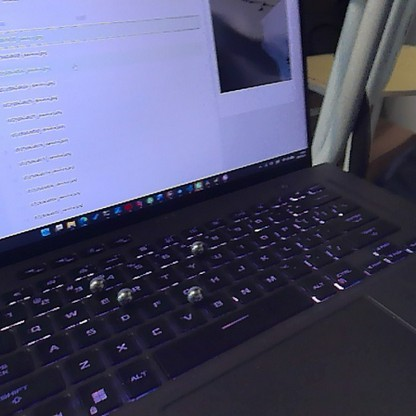ironball: (114, 284, 136, 306), (184, 284, 204, 307), (86, 274, 105, 293), (188, 238, 205, 254)
